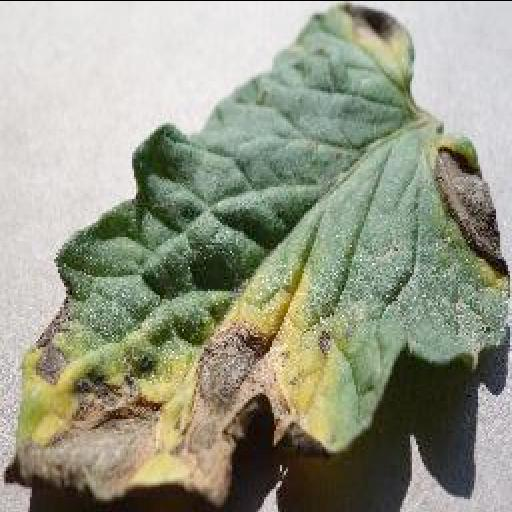disease_tomato: (8, 5, 512, 493)
